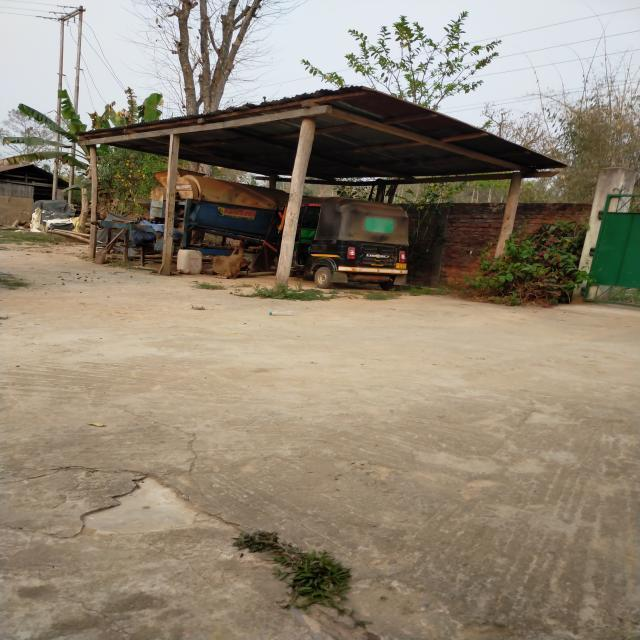auto_back: (286, 194, 424, 298)
